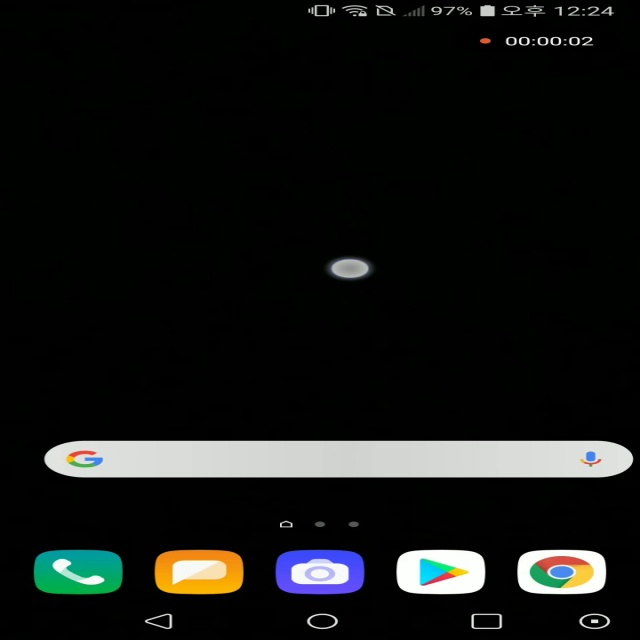Cursor: (328, 258, 373, 280)
